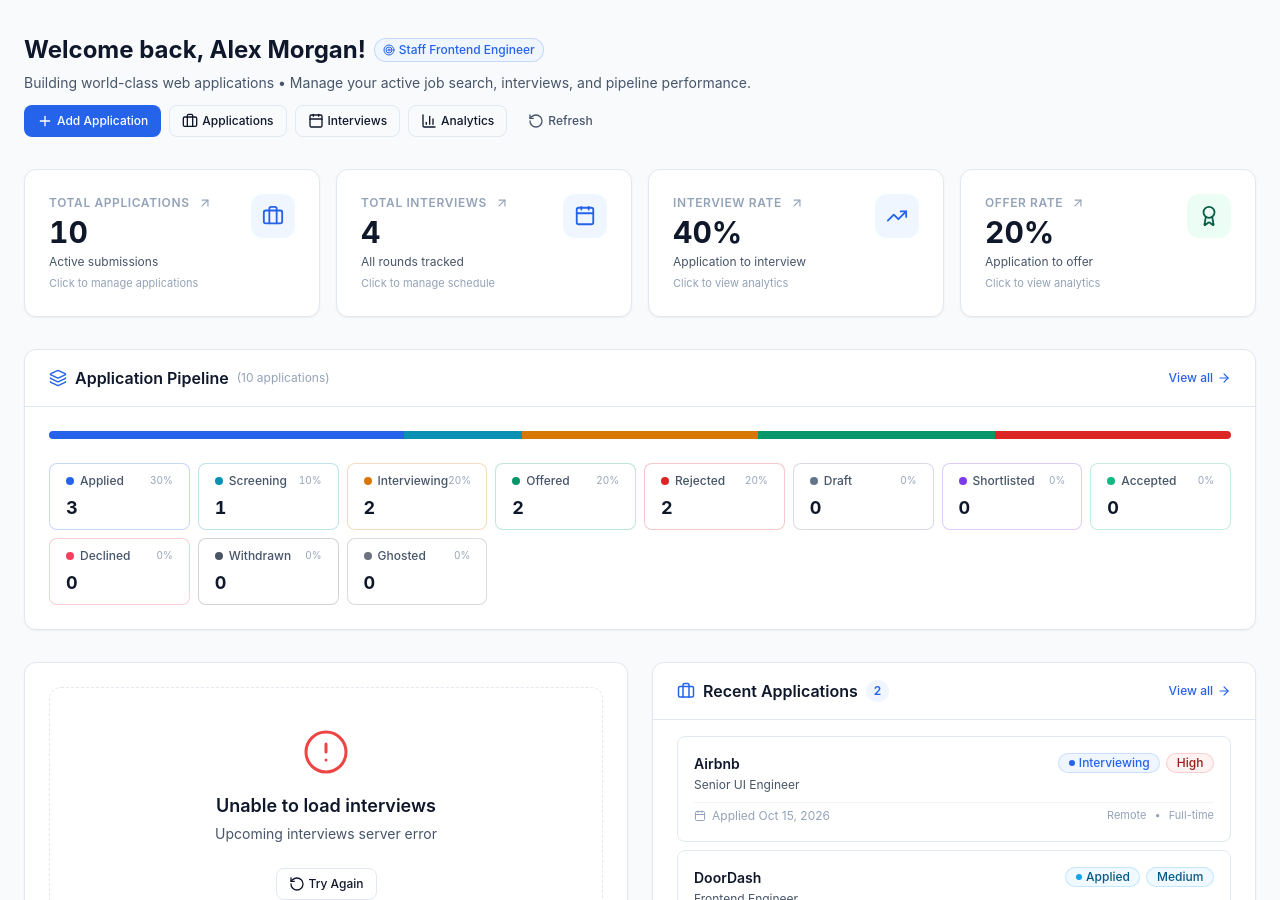
Scenario: DashboardPage (Phase 6.5G) › handles partial API failure when interviews fail: metrics and applications still load with inline retry for interviews
This screenshot has width=1280, height=900.
Expected: the text with test id "dashboard-metric-applications-value" reads "10", [49,214,88,250]
Expected: the heading "Airbnb" is shown, [694,754,740,772]
Click the button "Try Again" at (326, 884), box [276,868,376,899]
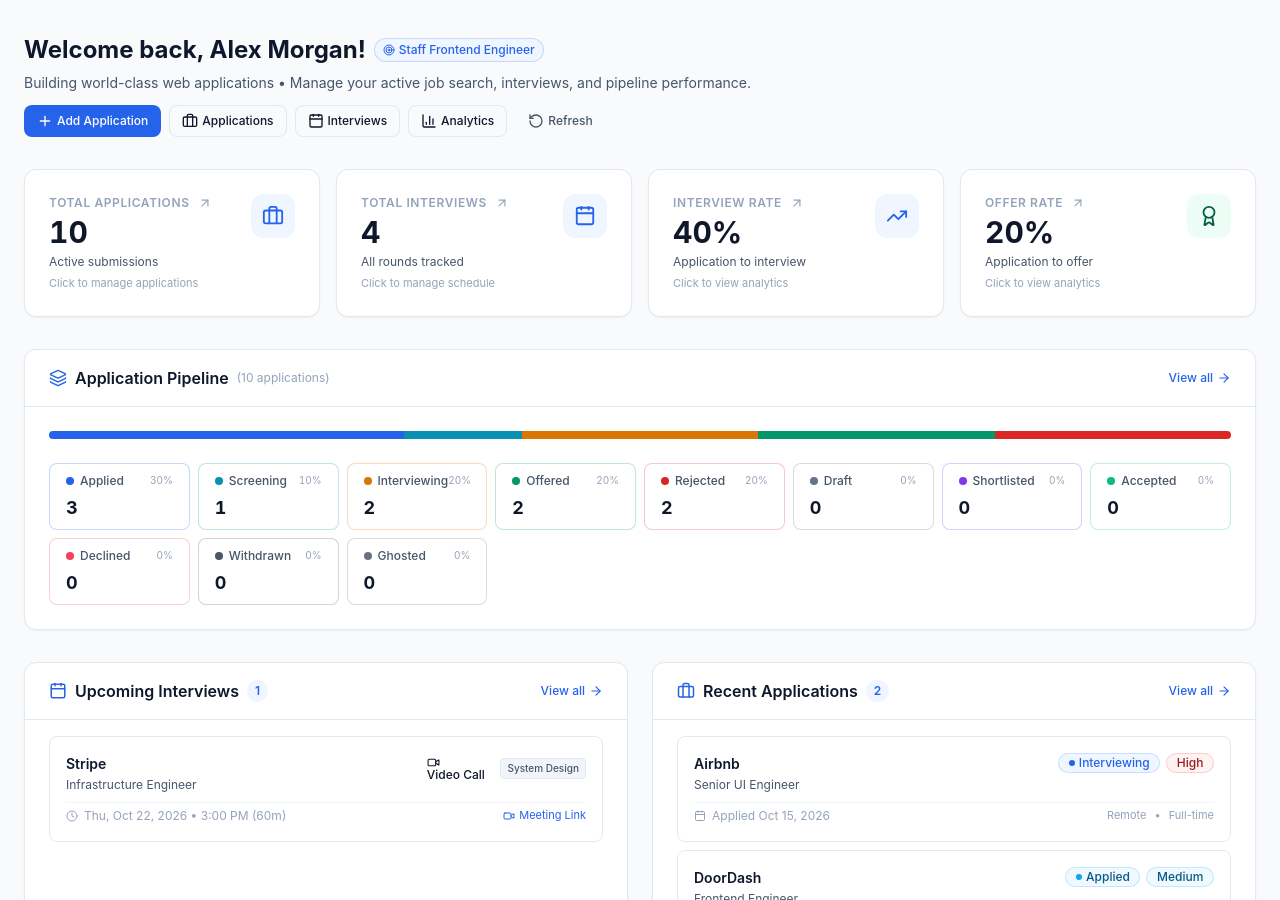
Now the text "System Design" is shown, box [500,758,586,779]
